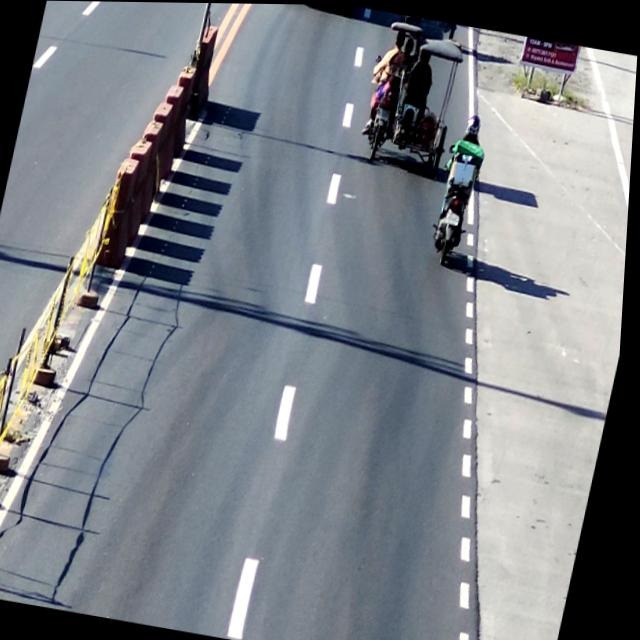License-Plate: (442, 206, 467, 231), (375, 102, 394, 124)
Motorcycle: (428, 111, 494, 271)
Tricycle: (352, 11, 474, 177)
